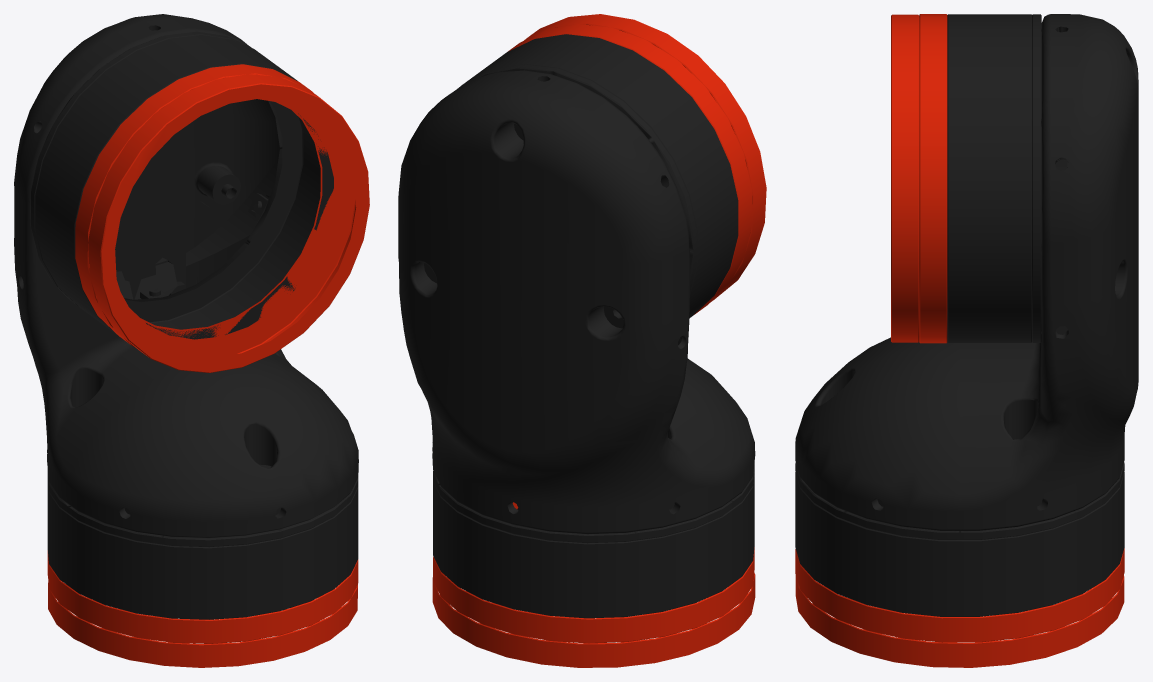
The model's file is Robolink_RebeL_001.dae.
3 renders of one model, left to right at view 1: azimuth 30°, elevation 25°; view 2: azimuth 150°, elevation 25°; view 3: azimuth 270°, elevation 25°, orthographic. The views are drawn at different scales.
Visible parts, largest first — view 1: Robolink_RebeL_001; view 2: Robolink_RebeL_001; view 3: Robolink_RebeL_001.
Part boxes in pixels (x1,y1,x2,y2): Robolink_RebeL_001: (14, 14, 369, 667); Robolink_RebeL_001: (398, 14, 766, 667); Robolink_RebeL_001: (795, 14, 1138, 667).
Bounding box in the file's own units: 0.105 × 0.1095 × 0.2004.
Materials: 1 (1 with a texture image).
